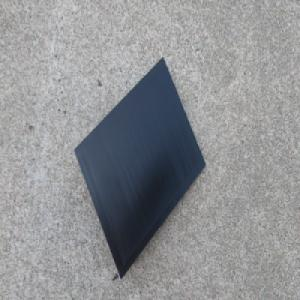PlasticPart: (73, 55, 206, 280)
